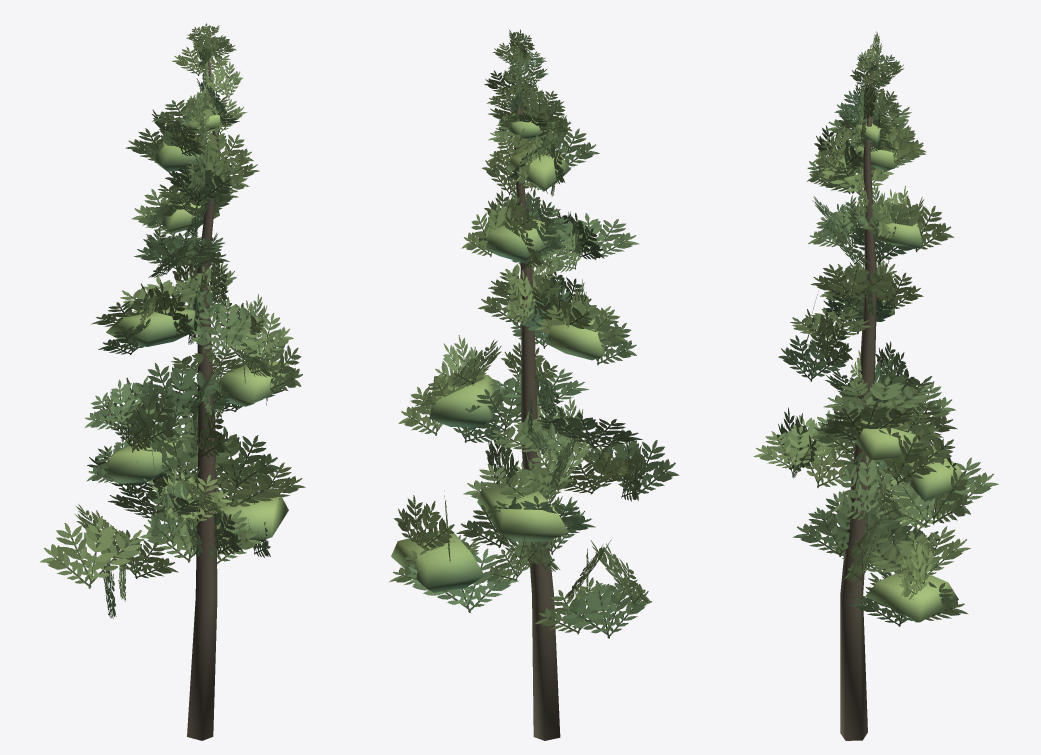
Rendered from station-cedar-far.glb.
The picture shows the model from 3 angles, left to right: view 1: azimuth 30°, elevation 25°; view 2: azimuth 150°, elevation 25°; view 3: azimuth 270°, elevation 25°; orthographic projection.
Parts seen in each view (by area): view 1: cedar-needle-sprays, cedar-canopy-planes, cedar-boughs; view 2: cedar-needle-sprays, cedar-canopy-planes, cedar-boughs; view 3: cedar-needle-sprays, cedar-boughs, cedar-canopy-planes.
Boxes of the visible parts, box(x1,y1,x2,y2) form: cedar-needle-sprays: box(40, 23, 305, 618); cedar-canopy-planes: box(97, 113, 293, 544); cedar-boughs: box(187, 50, 219, 740); cedar-needle-sprays: box(389, 29, 679, 638); cedar-canopy-planes: box(391, 113, 606, 592); cedar-boughs: box(514, 62, 560, 740); cedar-needle-sprays: box(753, 31, 998, 626); cedar-boughs: box(840, 61, 877, 740); cedar-canopy-planes: box(844, 118, 966, 622).
Size of the model in its own units: 4.09 by 9.01 by 3.38.
2 materials, 1 textured.
